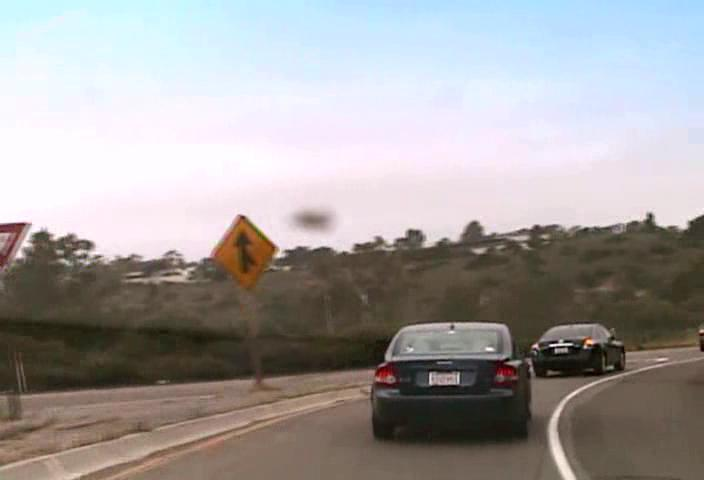merge: (210, 213, 279, 289)
